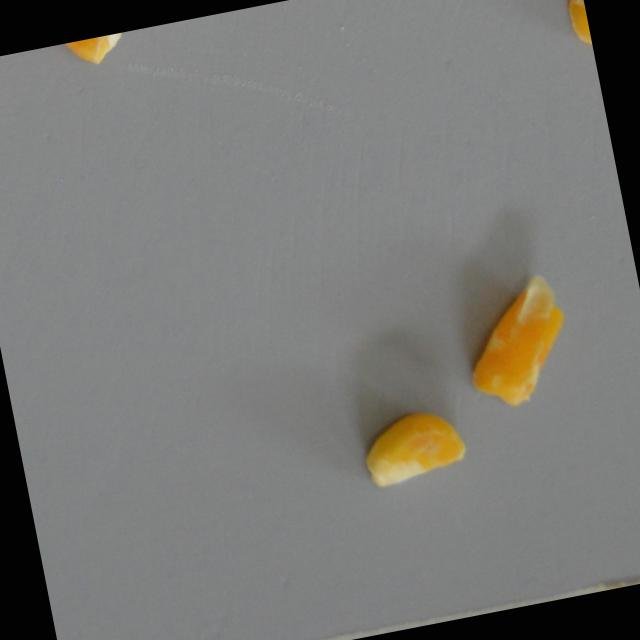pelicula: (450, 268, 581, 417), (357, 401, 474, 491), (41, 32, 129, 73), (565, 0, 593, 52)
